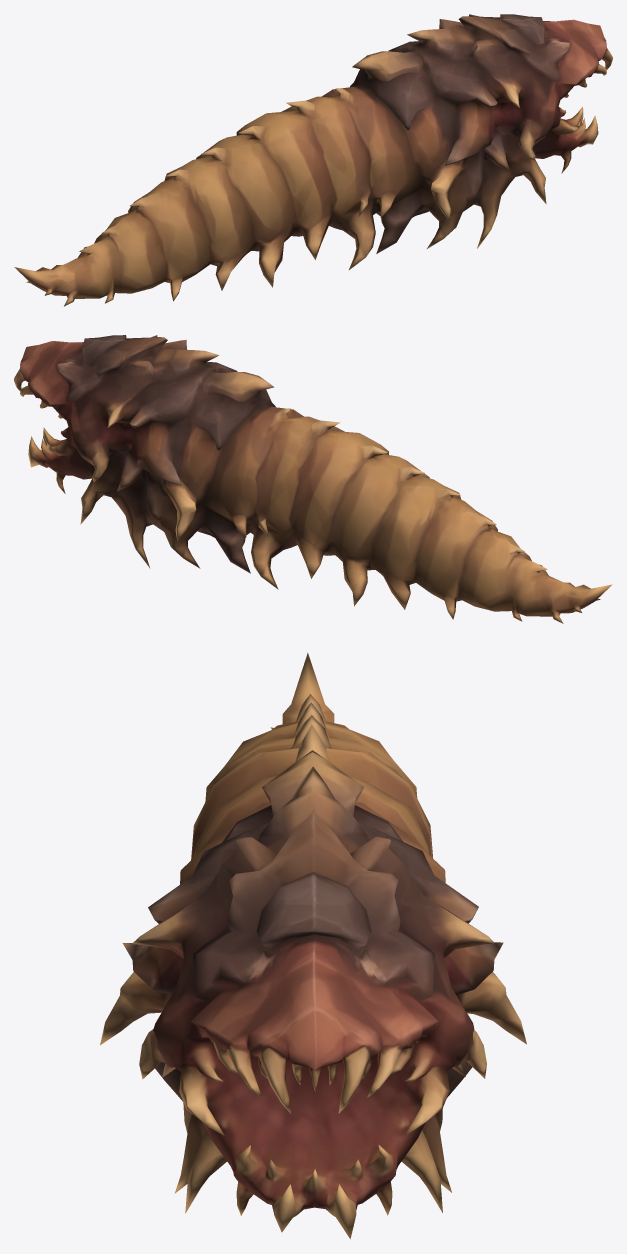
The model's file is generate_model.glb.
3 renders of one model, top to bottom at view 1: azimuth 30°, elevation 25°; view 2: azimuth 150°, elevation 25°; view 3: azimuth 270°, elevation 25°, orthographic. The views are drawn at different scales.
Parts seen in each view (by area): view 1: tripo_node_5ef34e47-9160-4183-b094-9ac3b95fcf9d; view 2: tripo_node_5ef34e47-9160-4183-b094-9ac3b95fcf9d; view 3: tripo_node_5ef34e47-9160-4183-b094-9ac3b95fcf9d.
Boxes of the visible parts, <box> form: tripo_node_5ef34e47-9160-4183-b094-9ac3b95fcf9d: <box>14,14,612,306</box>; tripo_node_5ef34e47-9160-4183-b094-9ac3b95fcf9d: <box>14,335,612,623</box>; tripo_node_5ef34e47-9160-4183-b094-9ac3b95fcf9d: <box>100,652,526,1239</box>.
Bounding box in the file's own units: 0.9995 × 0.3257 × 0.313.
Materials: 1 (1 with a texture image).
